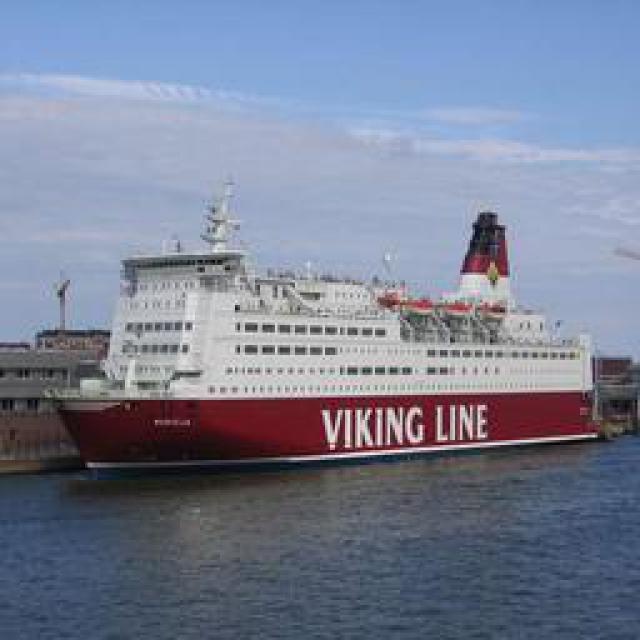Ship: (31, 190, 601, 470)
